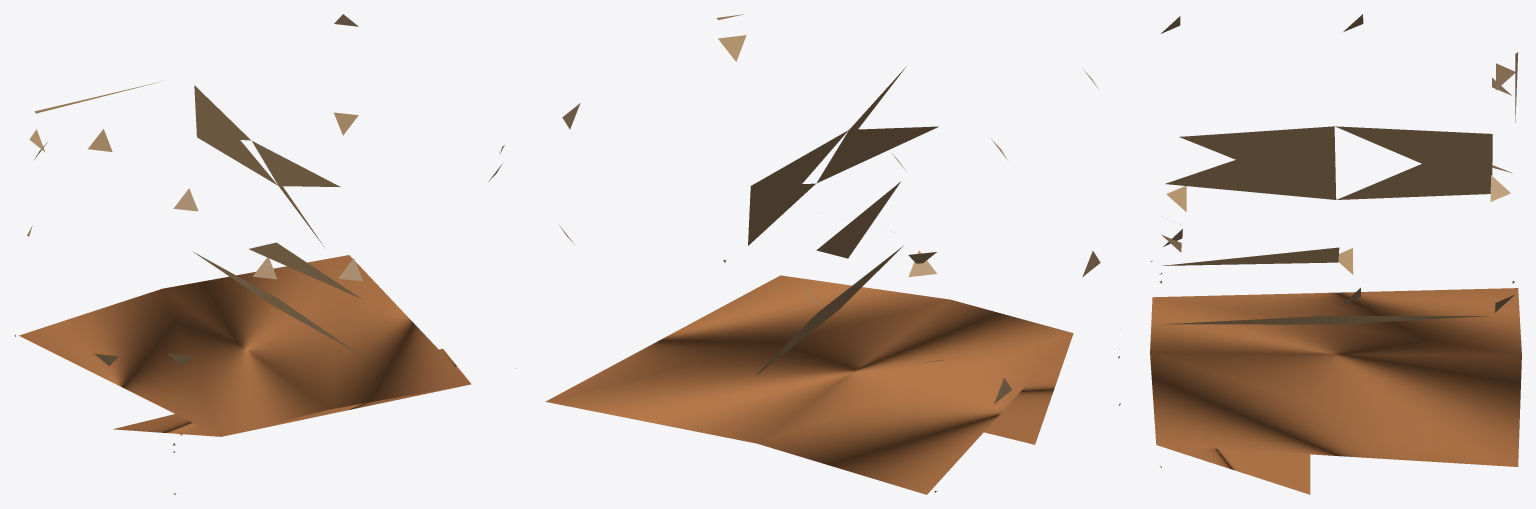
The model's file is prop.sandbag-pallet.lod2.glb.
The picture shows the model from 3 angles, left to right: view 1: azimuth 30°, elevation 25°; view 2: azimuth 150°, elevation 25°; view 3: azimuth 270°, elevation 25°; orthographic projection. The views are drawn at different scales.
Size of the model in its own units: 1.4 by 1.15 by 1.18.
